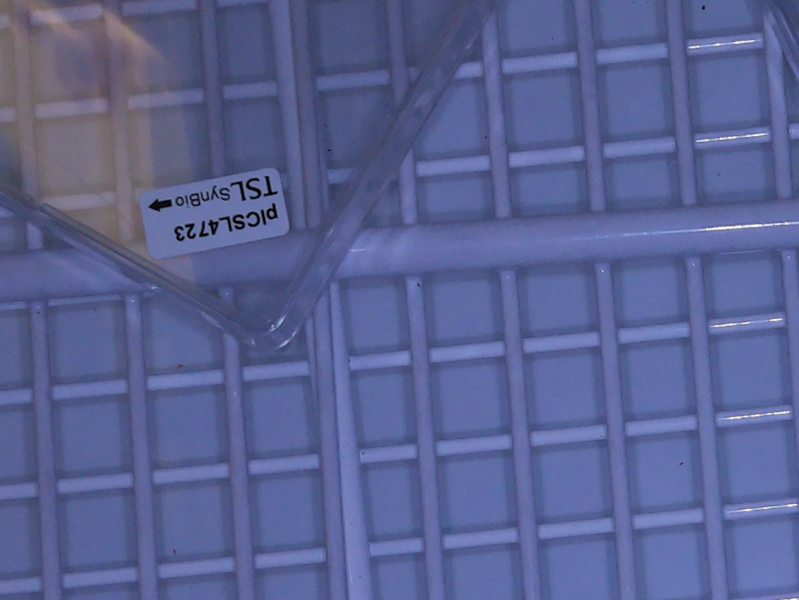plate: (1, 1, 497, 358)
